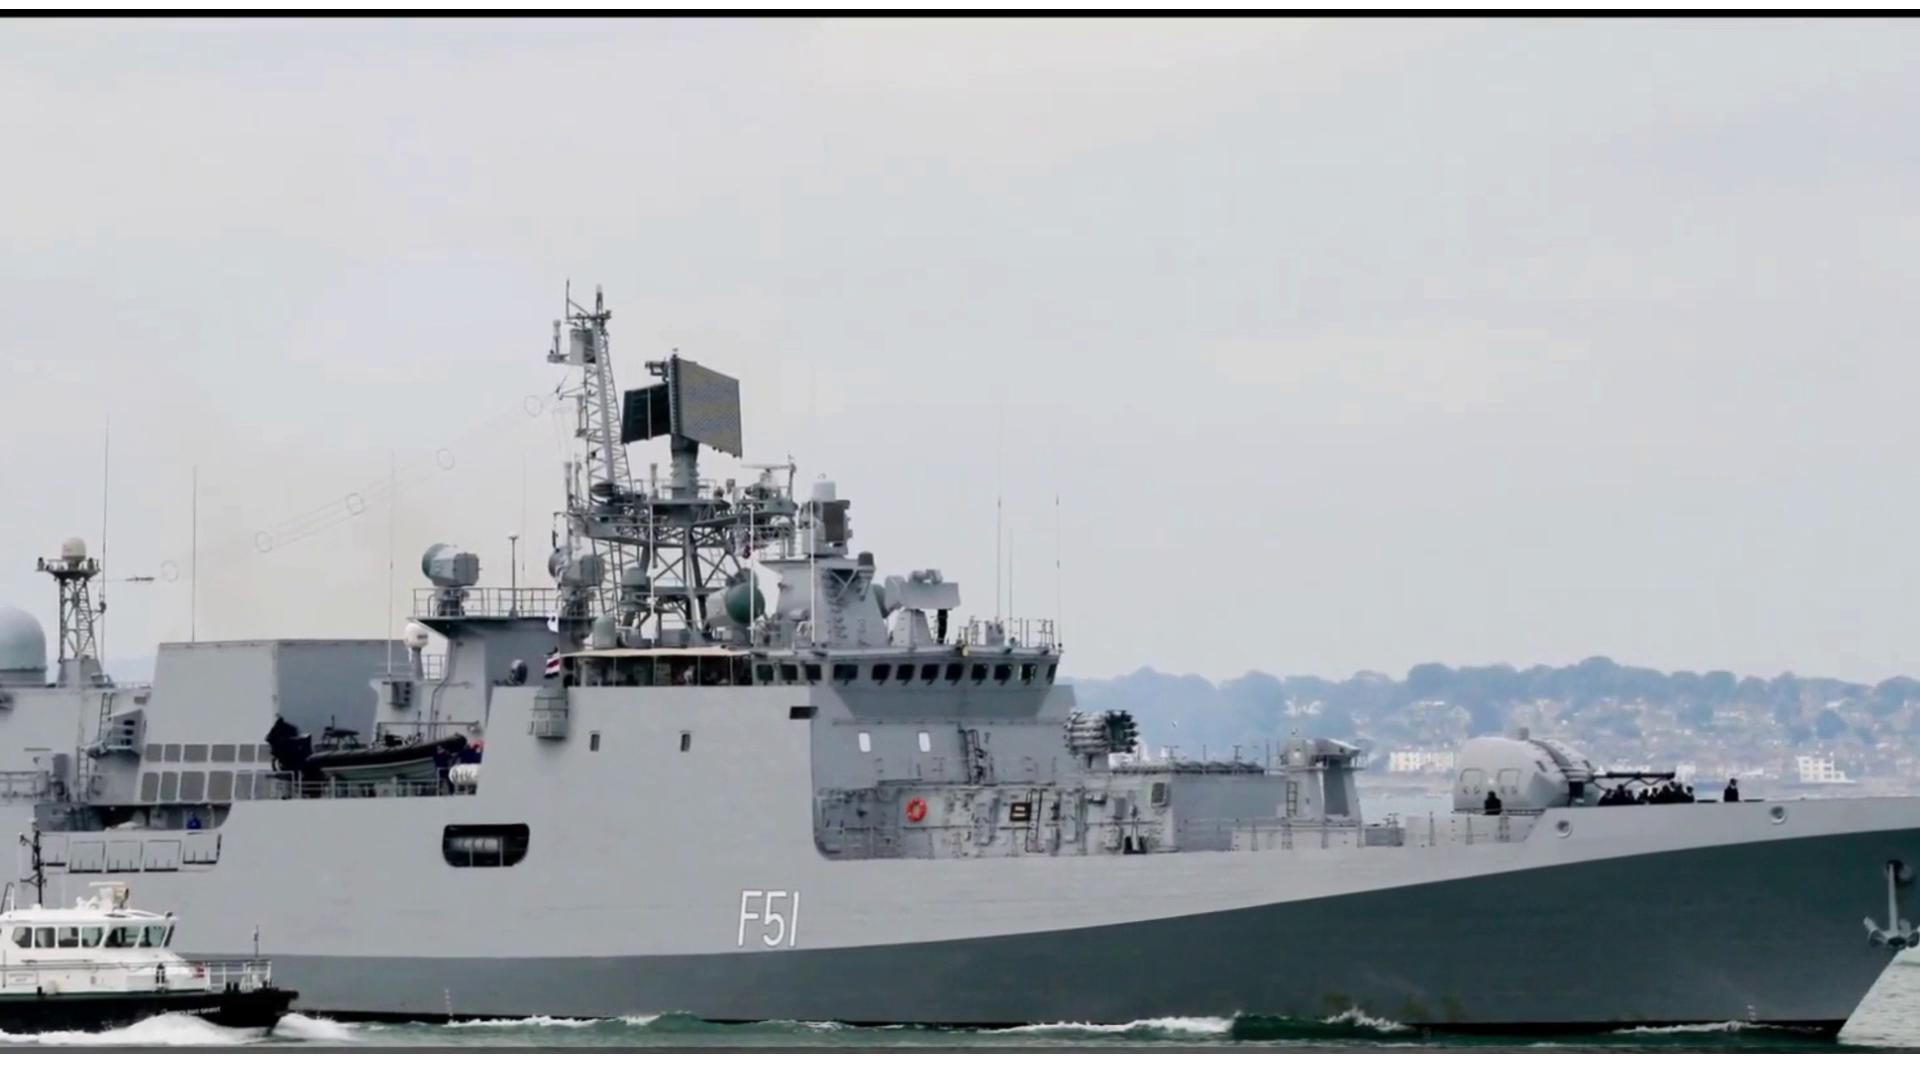OCR: (728, 876, 830, 965)
